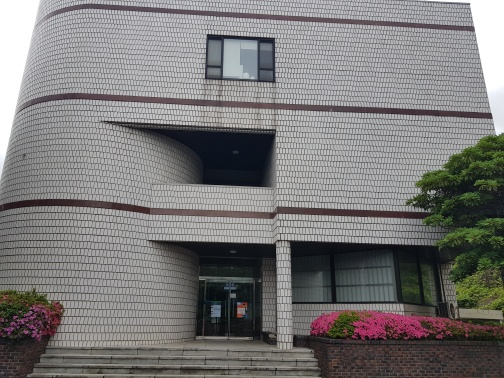Foreign Language Institute: (13, 5, 498, 373), (129, 218, 339, 378)
